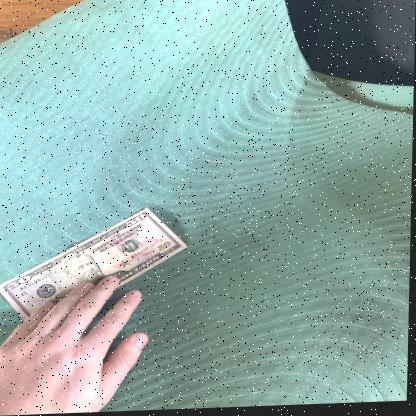fifty-front: (0, 207, 187, 328)
